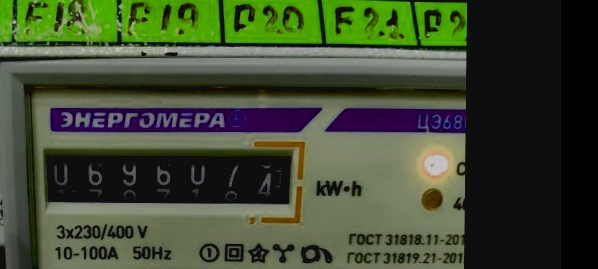0: (51, 157, 71, 186), (187, 158, 207, 185)
4: (255, 170, 274, 198)
6: (85, 158, 104, 186), (154, 157, 173, 185)
7: (222, 158, 242, 188)
9: (119, 159, 138, 187)
screen: (30, 134, 310, 224)
